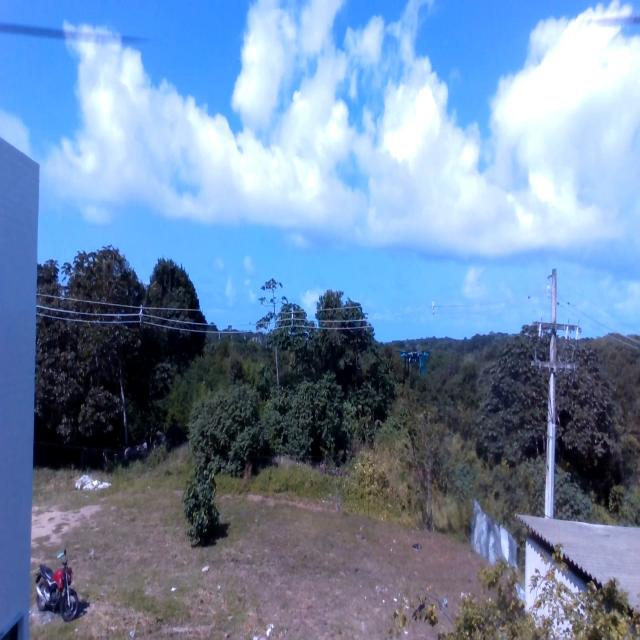-uav-: (394, 330, 435, 385)
